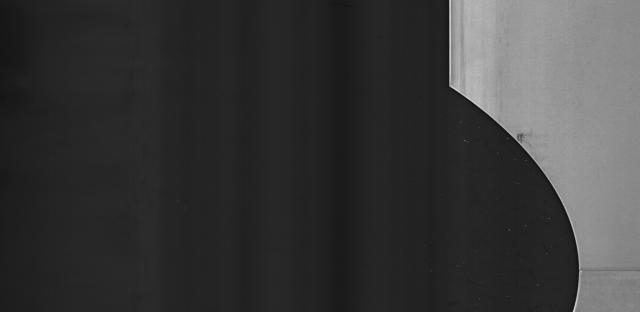crescent_gap: (426, 79, 587, 312)
welding_line: (557, 261, 640, 286)
